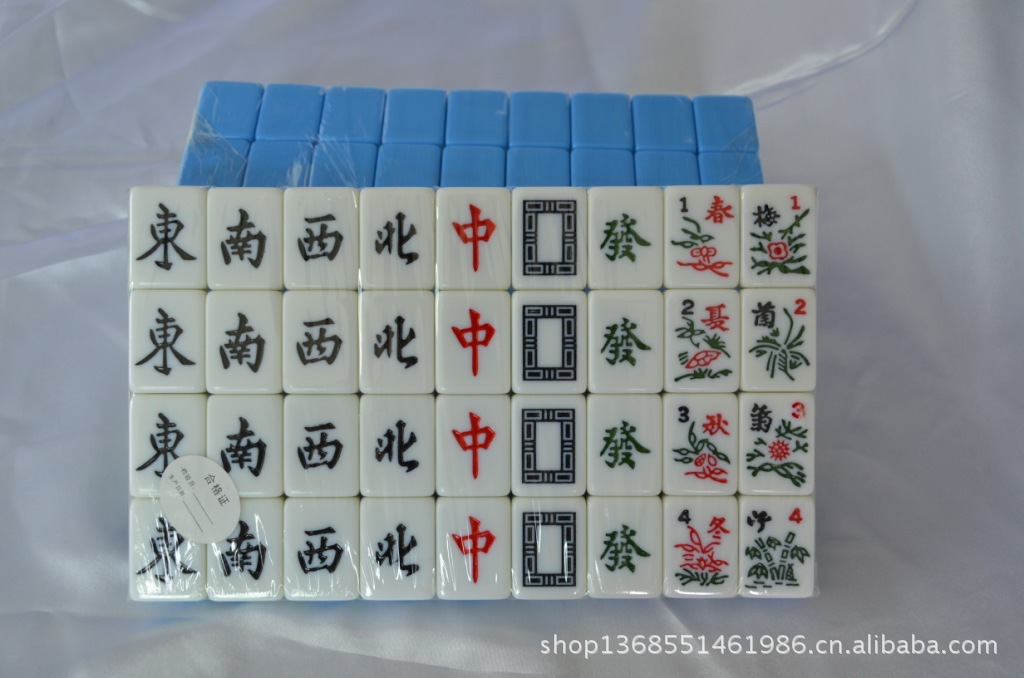East: (133, 294, 204, 390), (135, 502, 199, 590), (128, 402, 187, 484), (137, 198, 198, 277)
Green: (584, 491, 674, 599), (585, 285, 668, 396), (595, 400, 652, 485), (595, 203, 656, 276)
North: (354, 394, 438, 499), (355, 492, 437, 593), (361, 289, 433, 393), (361, 192, 432, 284)
Red: (431, 392, 516, 502), (437, 185, 515, 293), (434, 505, 501, 593), (444, 294, 503, 384)
South: (207, 297, 275, 384), (216, 200, 274, 280), (213, 409, 273, 481), (216, 518, 274, 585)
West: (282, 290, 365, 399), (284, 388, 360, 503), (285, 189, 364, 290), (286, 511, 351, 590)
White: (512, 391, 590, 501), (508, 498, 588, 593), (512, 295, 582, 392), (519, 190, 585, 288)
